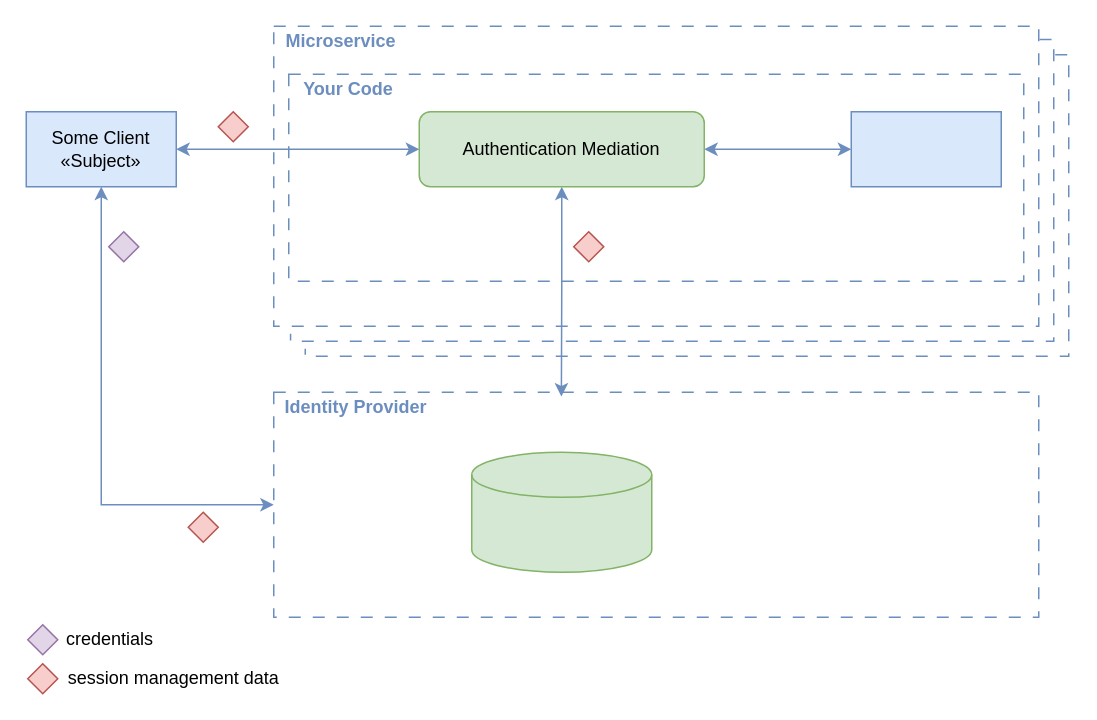
This 1097x720 diagram has some shape labels left out. Here are the shapes that lost their labels. From the top down, the centre of each, then its label:
(925,148): Some Entity «Object»
(561,511): Identity Store
